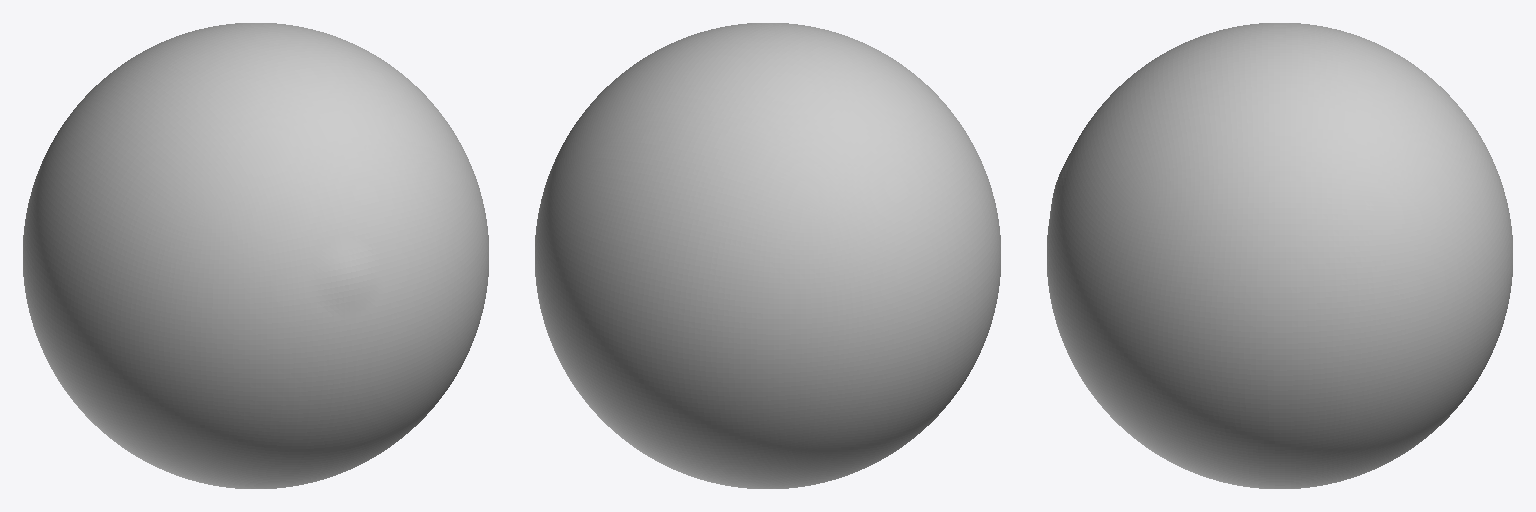
The picture shows the model from 3 angles: view 1: azimuth 30°, elevation 25°; view 2: azimuth 150°, elevation 25°; view 3: azimuth 270°, elevation 25°; orthographic projection.
Visible parts, largest first — view 1: Quad_Sphere; view 2: Quad_Sphere; view 3: Quad_Sphere.
Part boxes in pixels (bbox=[...]): Quad_Sphere: bbox=[23, 23, 488, 488]; Quad_Sphere: bbox=[535, 23, 1000, 488]; Quad_Sphere: bbox=[1047, 23, 1512, 488].
Bounding box in the file's own units: 2.57 × 2.57 × 2.57.